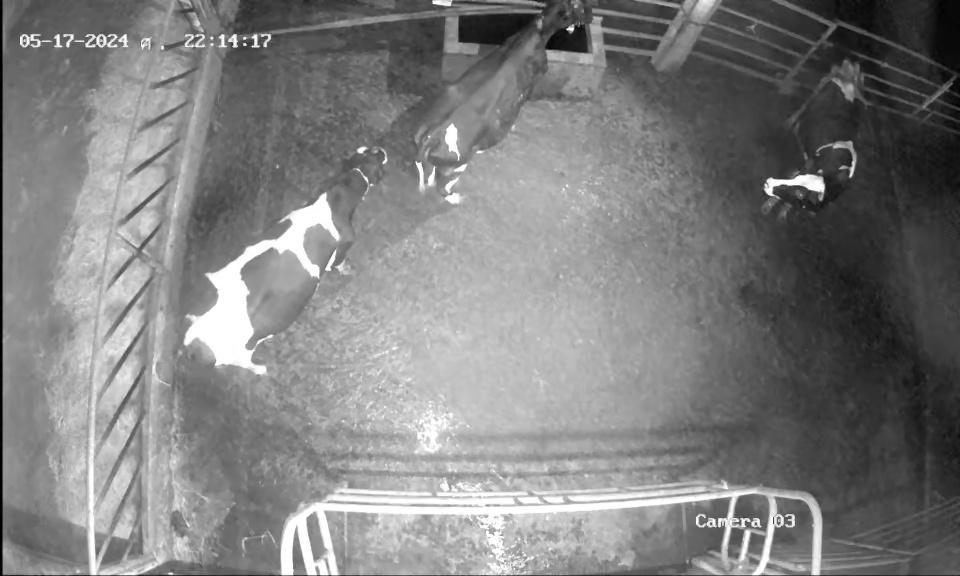drink: (518, 1, 591, 98)
stand: (174, 142, 399, 377), (740, 52, 875, 242)
